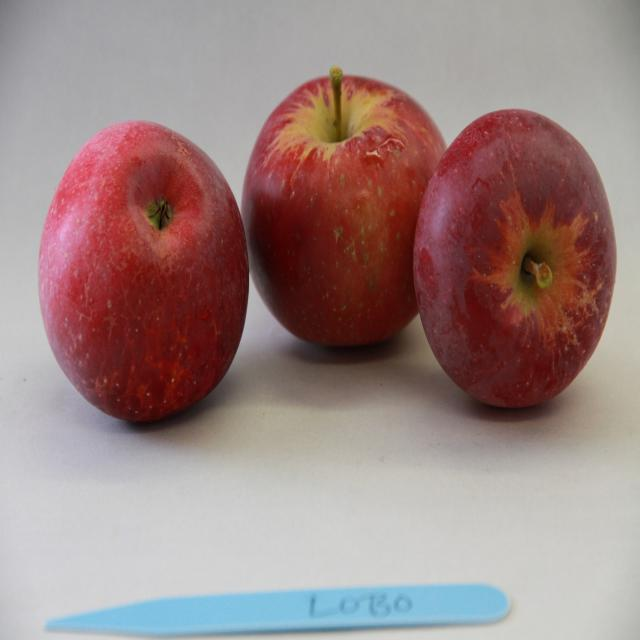Apple: (36, 111, 258, 428), (412, 102, 624, 425), (246, 71, 455, 356)
